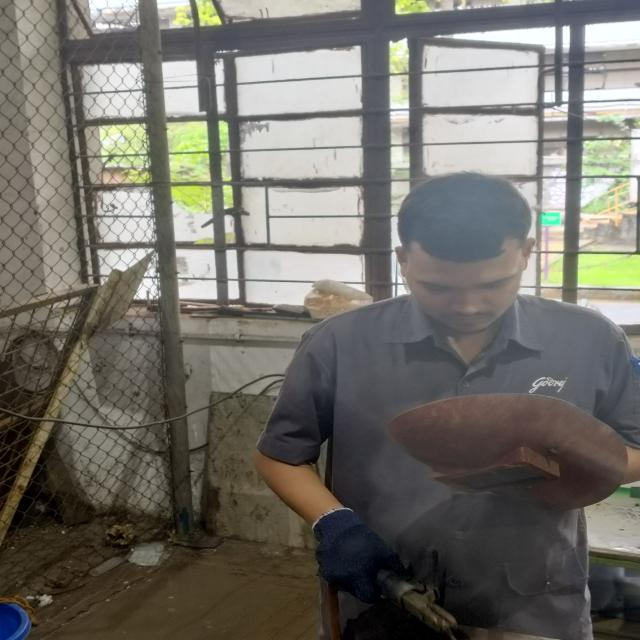Gloves-Detection: (308, 512, 410, 602)
